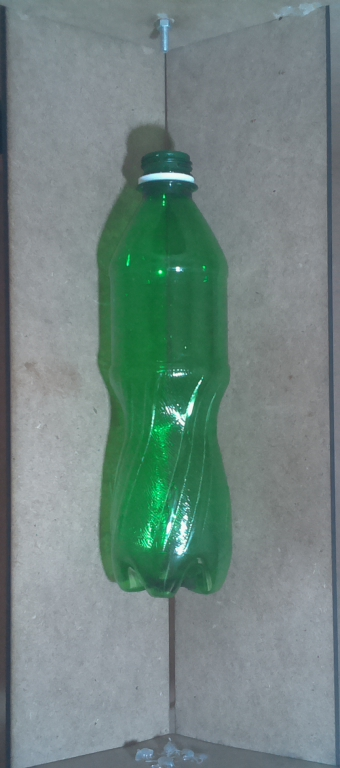Bouteille_0.5L: (95, 143, 244, 606)
